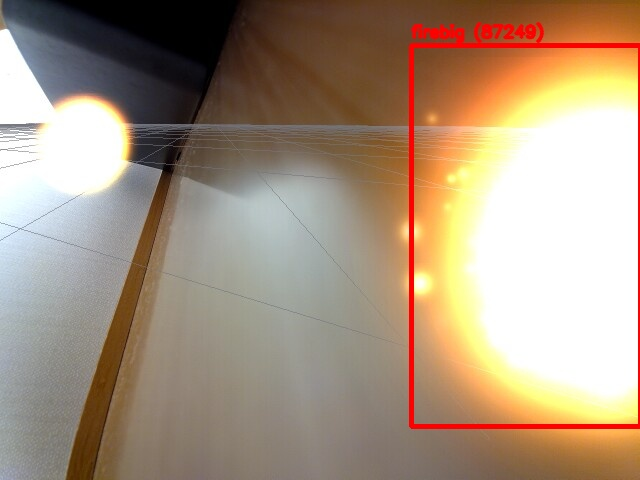firebig: (411, 45, 640, 426)
